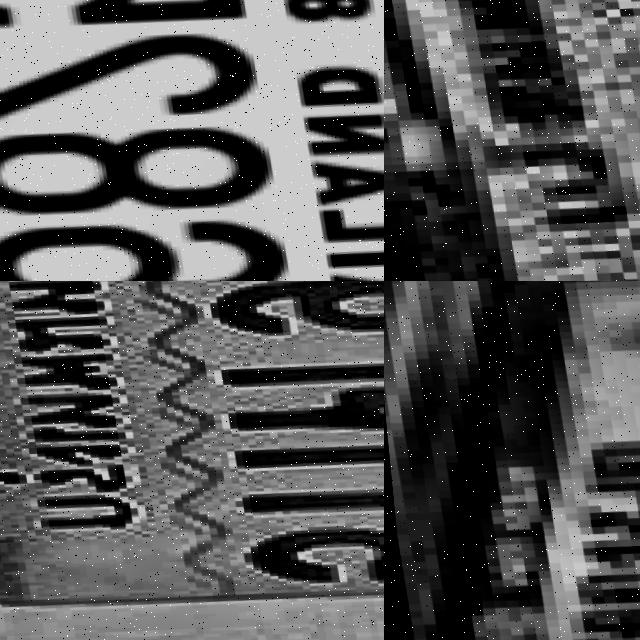license-plate: (0, 281, 384, 640), (0, 0, 384, 281), (385, 281, 640, 640), (384, 0, 640, 281)
